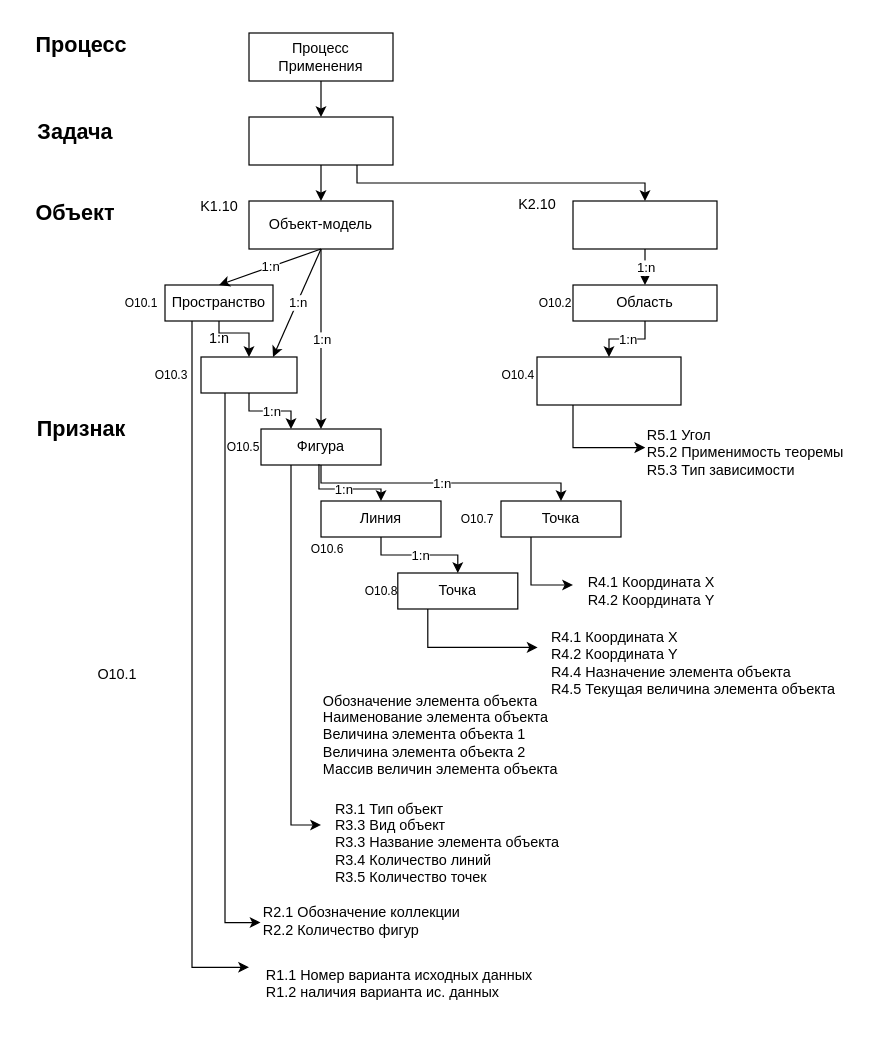
Some shapes in this 893 by 1049 pixel diagram are drawn without their labels. The centre of each missing label's shape, as x and y in pixels:
Задача Применения: point (320, 140)
Коплекция Фигур: point (248, 374)
Средство-модель: point (644, 224)
Теорема: point (608, 380)
